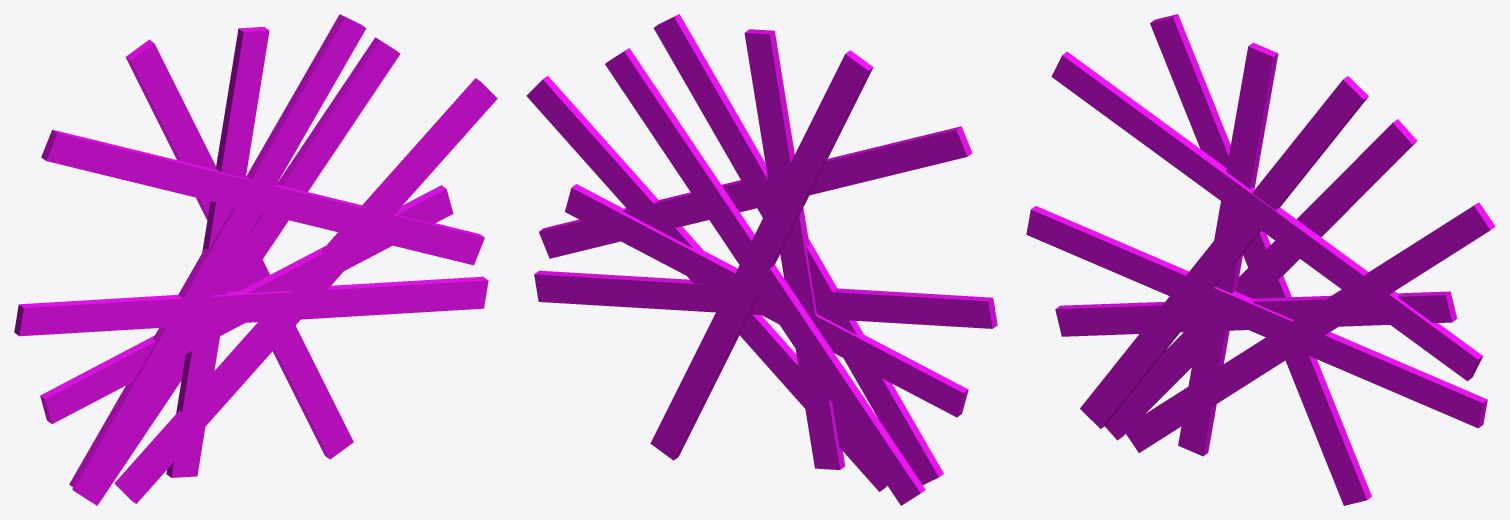
File: MeDestructibleShotgun.fbx
The picture shows the model from 3 angles, left to right: view 1: azimuth 30°, elevation 25°; view 2: azimuth 150°, elevation 25°; view 3: azimuth 330°, elevation 25°; orthographic projection. The views are drawn at different scales.
Visible parts, largest first — view 1: DestructibleShotgunPlaceHolder; view 2: DestructibleShotgunPlaceHolder; view 3: DestructibleShotgunPlaceHolder.
Part boxes in pixels (x1=…): DestructibleShotgunPlaceHolder: x1=14, y1=14, x2=497, y2=505; DestructibleShotgunPlaceHolder: x1=526, y1=14, x2=997, y2=505; DestructibleShotgunPlaceHolder: x1=1026, y1=14, x2=1495, y2=505.
Size of the model in its own units: 370 by 340 by 18.25.
